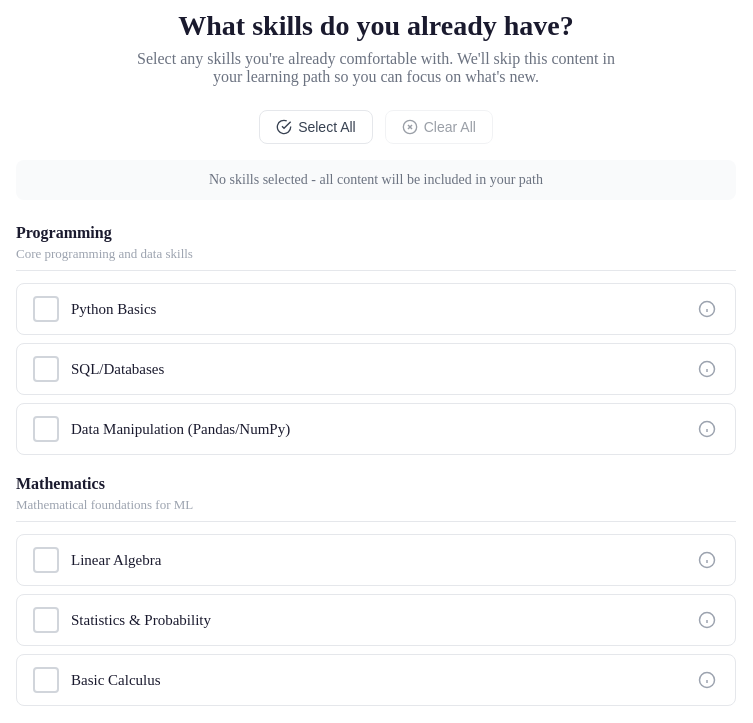
Test: Step4ExistingSkills › skill description shows on hover › should show tooltip when hovering over skill
Hover over the element with test id "skill-item-python-basics" at (376, 309), box [16,283,736,335]
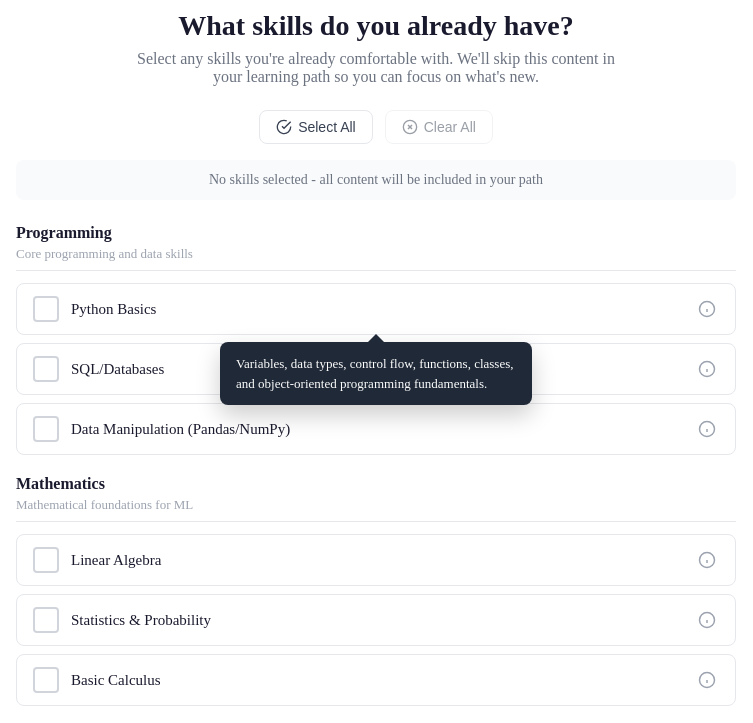
Result: the tooltip with test id "skill-tooltip-python-basics" is shown at [220,342,532,405]
